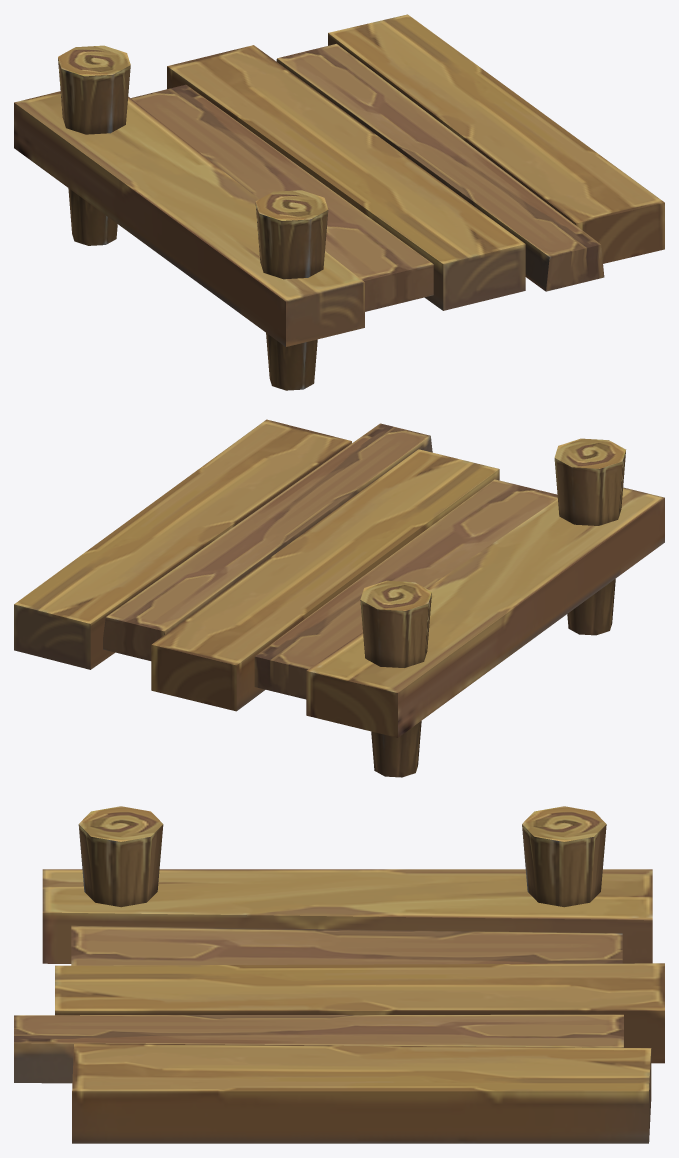
The model's file is scenes_beach_wood01.FBX.
3 renders of one model, top to bottom at view 1: azimuth 30°, elevation 25°; view 2: azimuth 150°, elevation 25°; view 3: azimuth 270°, elevation 25°, orthographic. The views are drawn at different scales.
Parts seen in each view (by area): view 1: scenes_beach_wood01; view 2: scenes_beach_wood01; view 3: scenes_beach_wood01.
Boxes of the visible parts, box(x1,y1,x2,y2) form: scenes_beach_wood01: box(14, 14, 664, 390); scenes_beach_wood01: box(14, 419, 664, 777); scenes_beach_wood01: box(14, 806, 664, 1143).
Bounding box in the file's own units: 441 × 189 × 565.
